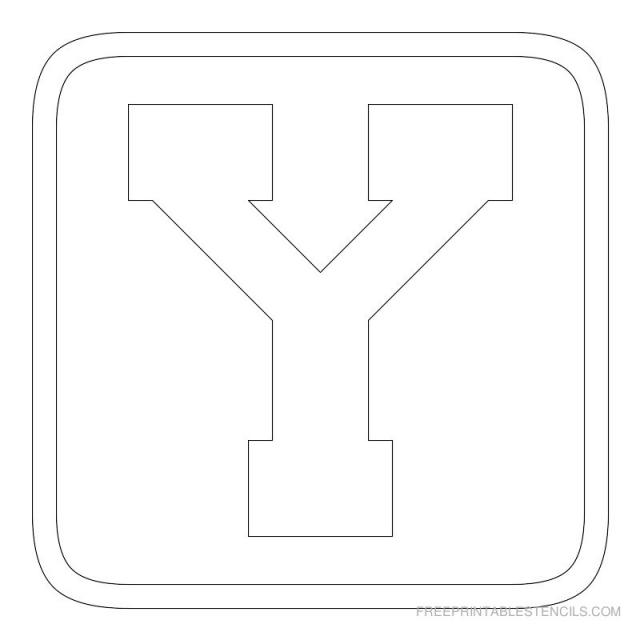Y: (98, 72, 548, 556)
